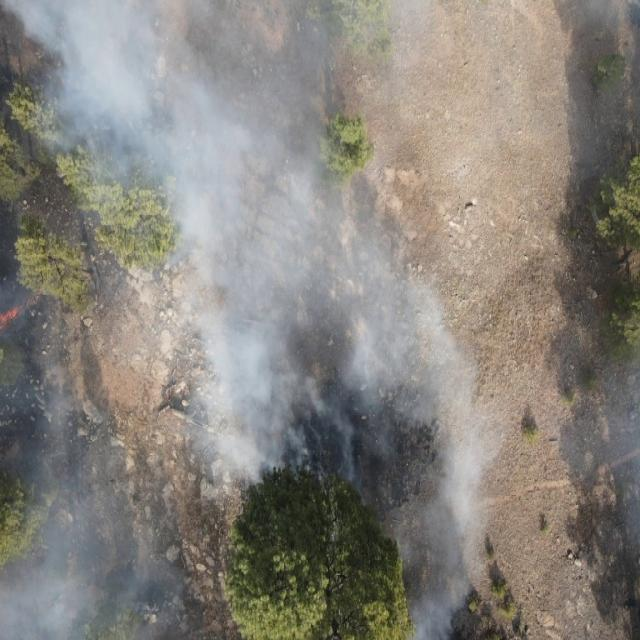fire: (0, 290, 42, 330)
smoke: (0, 0, 501, 479), (0, 479, 204, 640), (558, 352, 640, 578), (399, 479, 498, 640), (555, 0, 640, 178), (350, 478, 399, 514), (242, 478, 264, 499), (384, 514, 399, 544)
